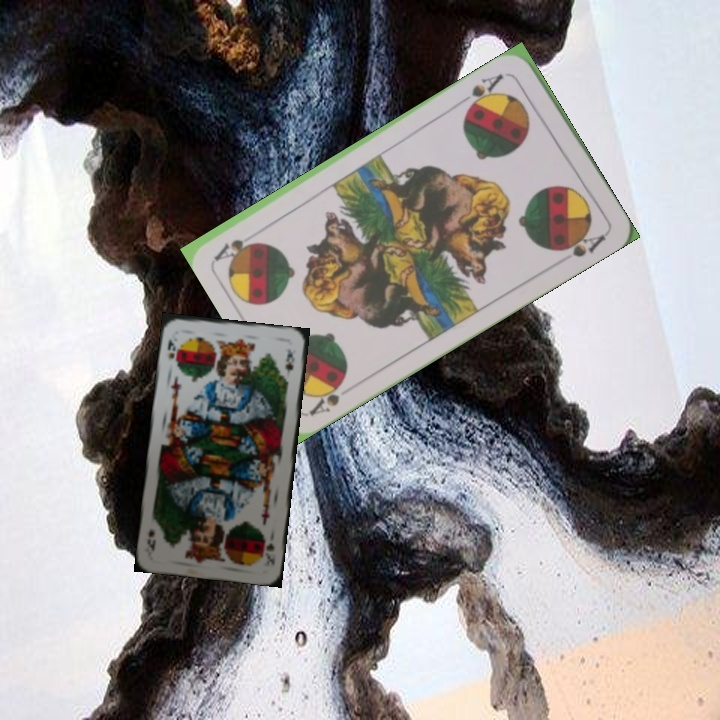SA: (458, 69, 506, 113), (307, 374, 349, 417)
SK: (260, 539, 278, 569), (163, 336, 178, 361)
